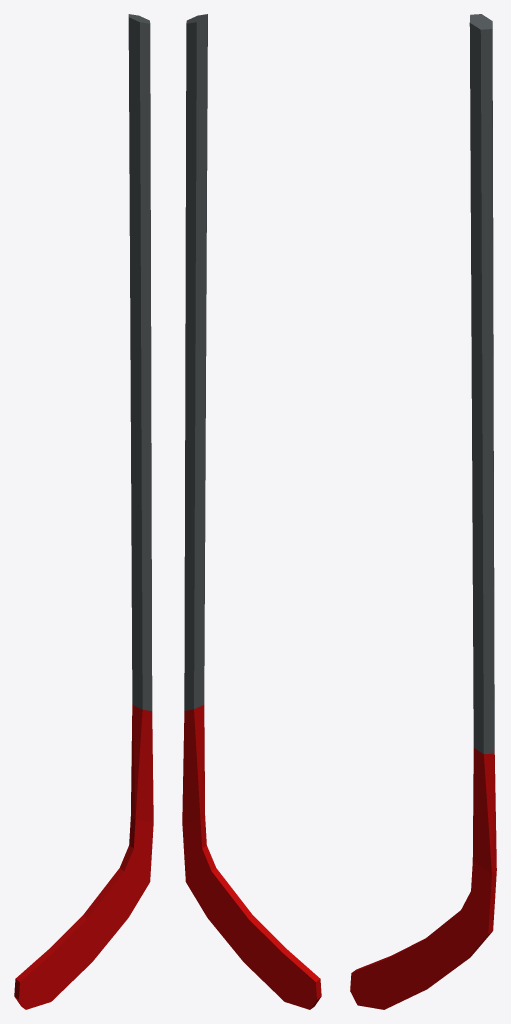
File: Ice_hockey_stick_red.fbx
3 views of the same model, side by side, from view 1: azimuth 30°, elevation 25°; view 2: azimuth 150°, elevation 25°; view 3: azimuth 330°, elevation 25° (orthographic). The views are drawn at different scales.
Parts seen in each view (by area): view 1: Ice_hockey_stick_red; view 2: Ice_hockey_stick_red; view 3: Ice_hockey_stick_red.
Part boxes in pixels (left/top/right/bottom): Ice_hockey_stick_red: left=14, top=14, right=153, bottom=1009; Ice_hockey_stick_red: left=182, top=14, right=321, bottom=1009; Ice_hockey_stick_red: left=350, top=14, right=496, bottom=1009.
Bounding box in the file's own units: 28.25 × 193 × 4.06.
